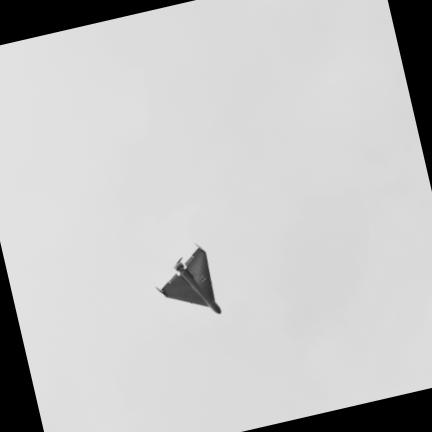Shahed: (159, 247, 220, 312)
